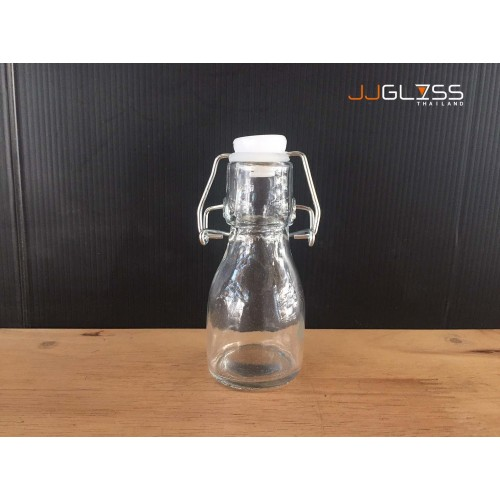glass_bottle: (196, 129, 324, 395)
